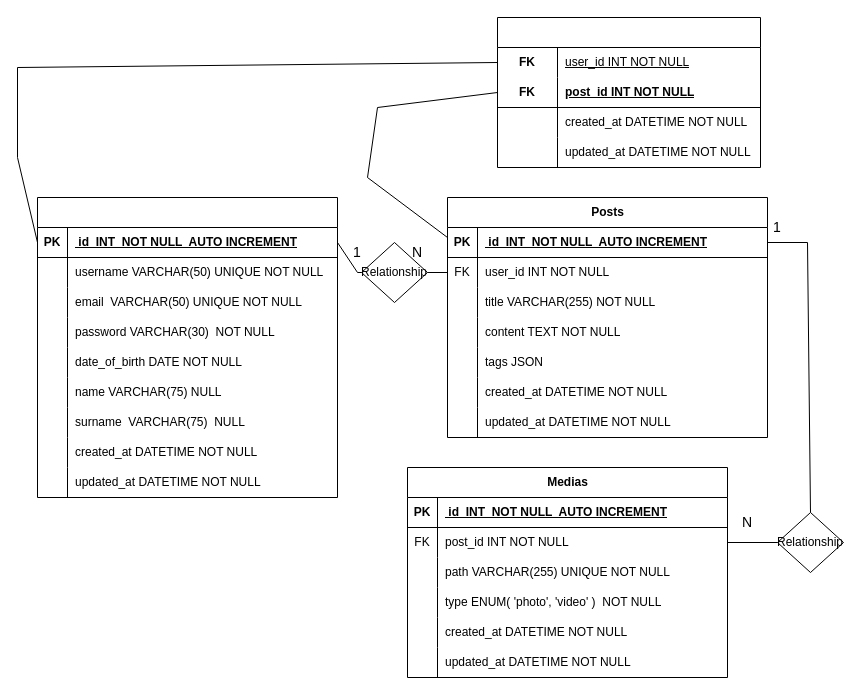
Some shapes in this 861 by 695 pixel diagram are drawn without their labels. The shapes that lost their labels are listed below. From the top down, each one's box as (x1, y1, x2, y2) in pixels, then its label:
(496, 16, 760, 168): Likes
(36, 196, 338, 498): Users
